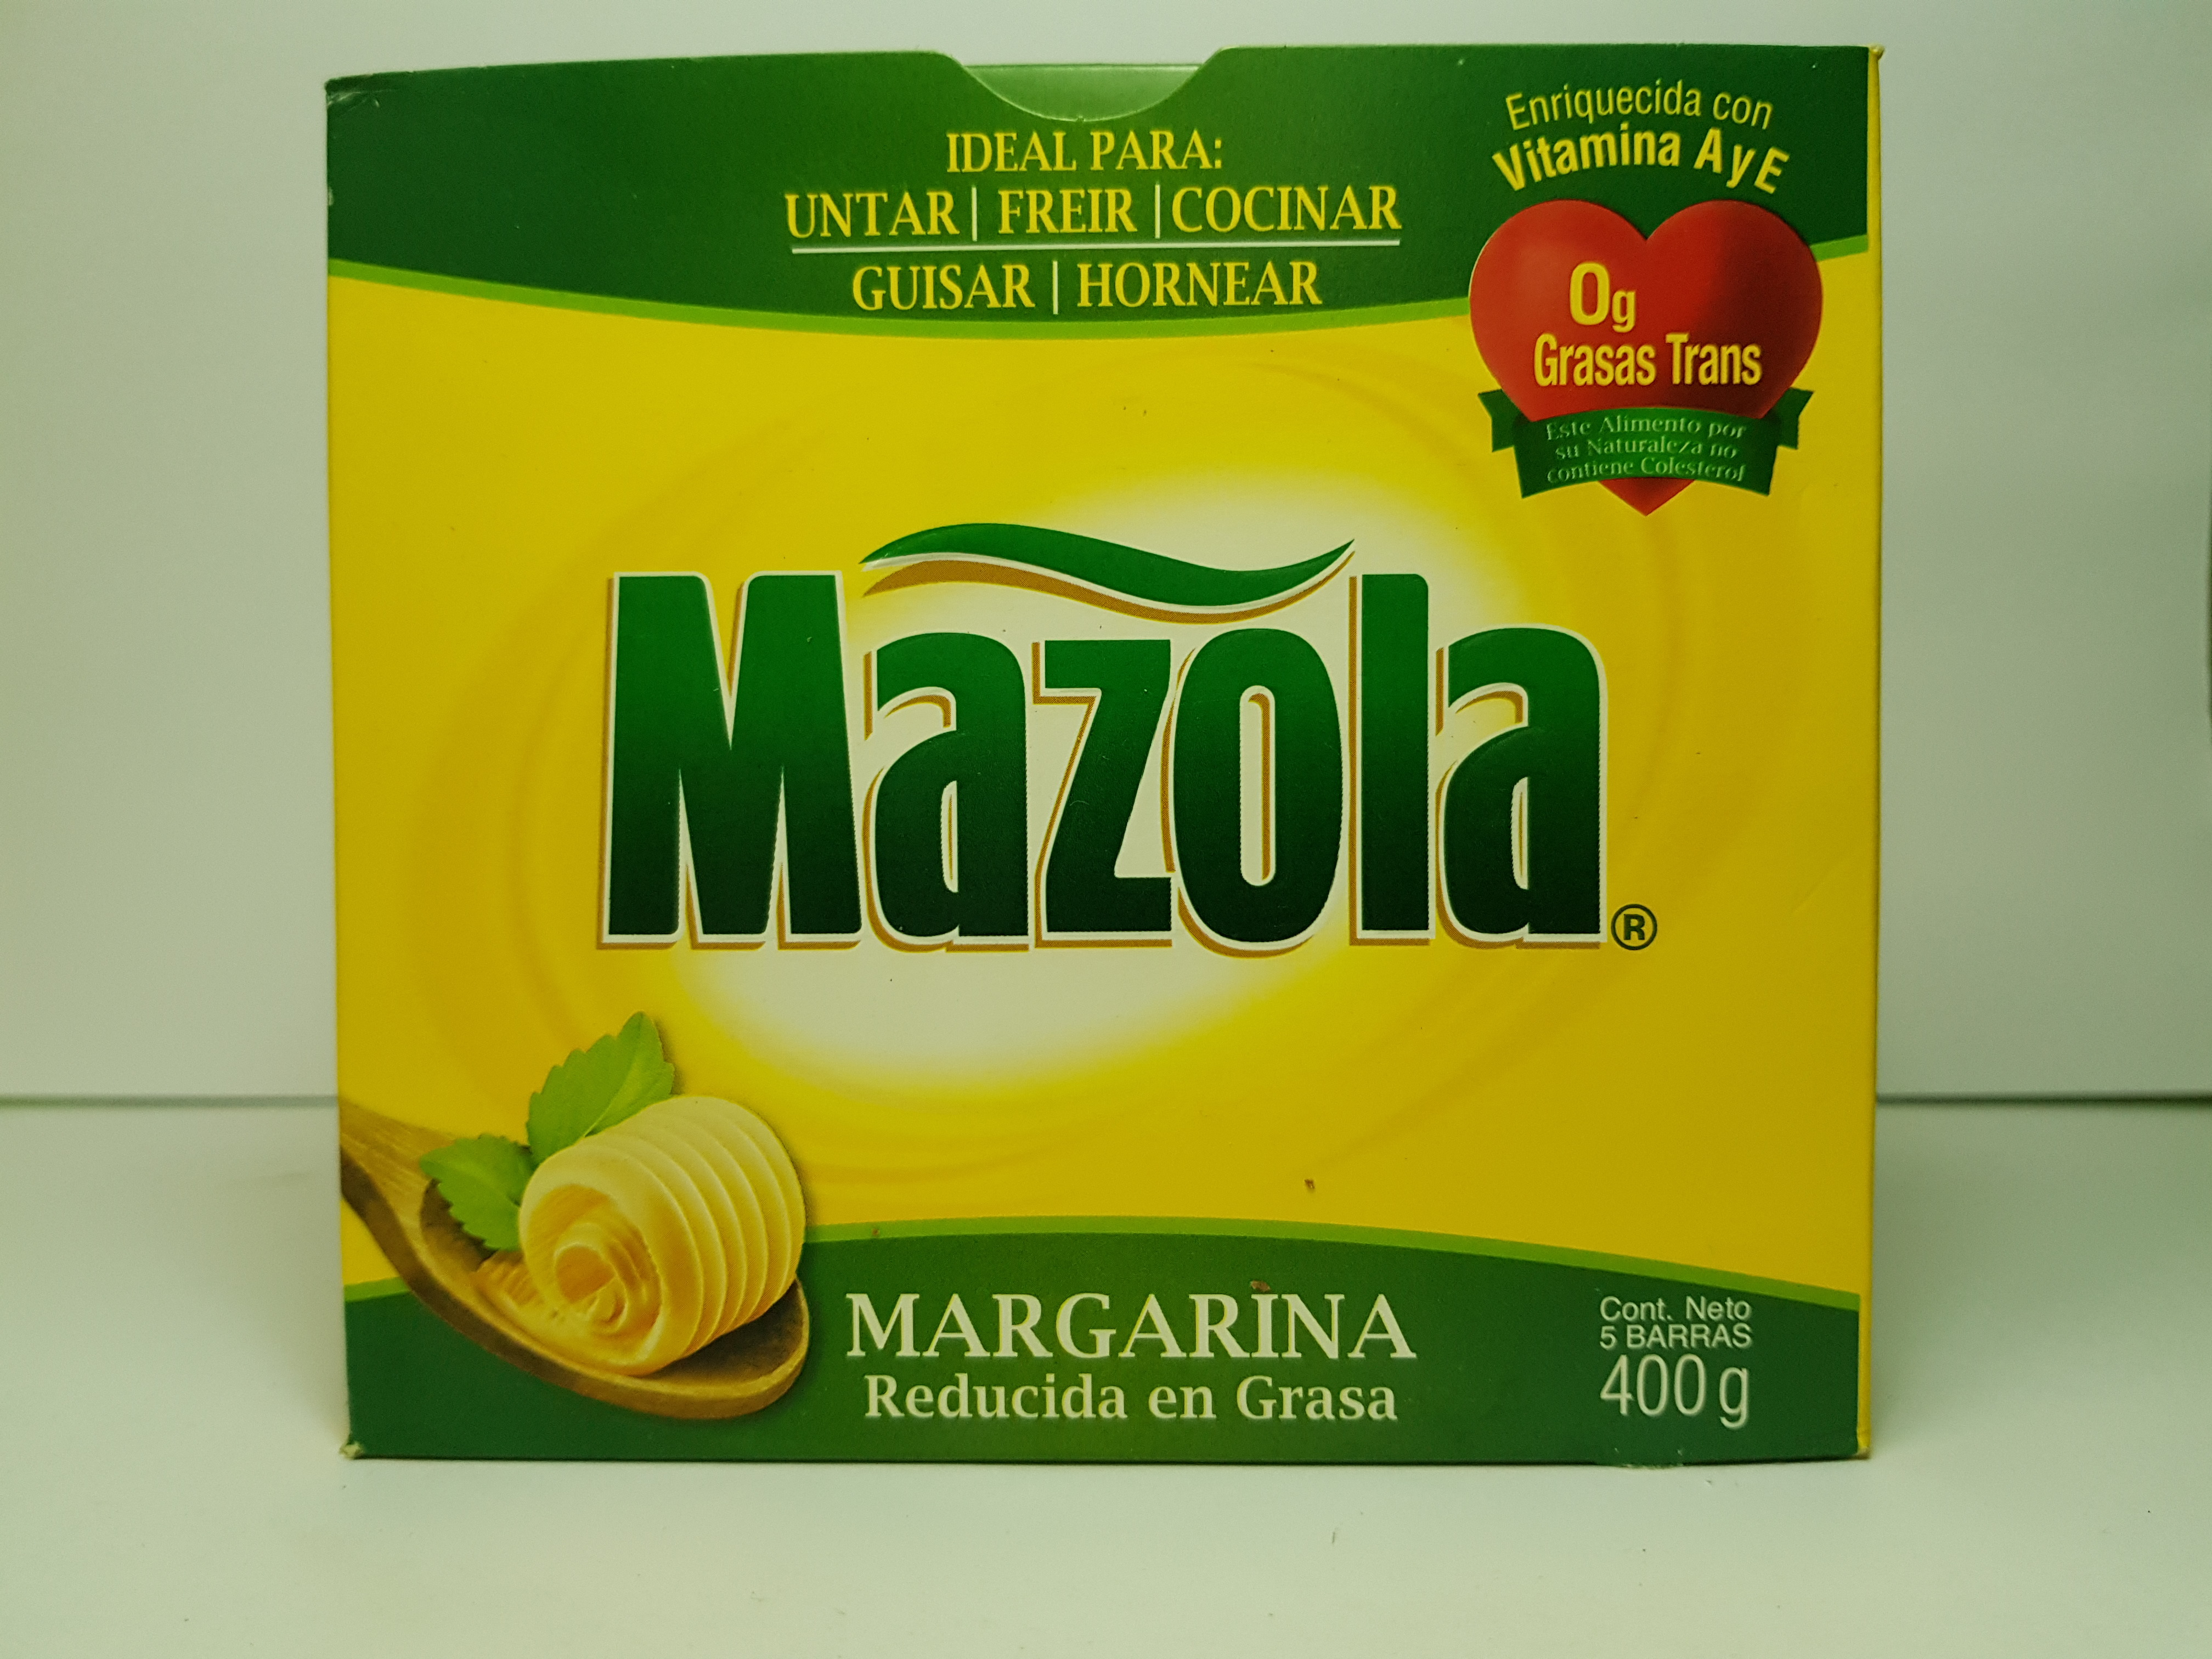mazola: (284, 52, 1907, 1499)
